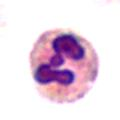neutrophil: (26, 27, 101, 104)
